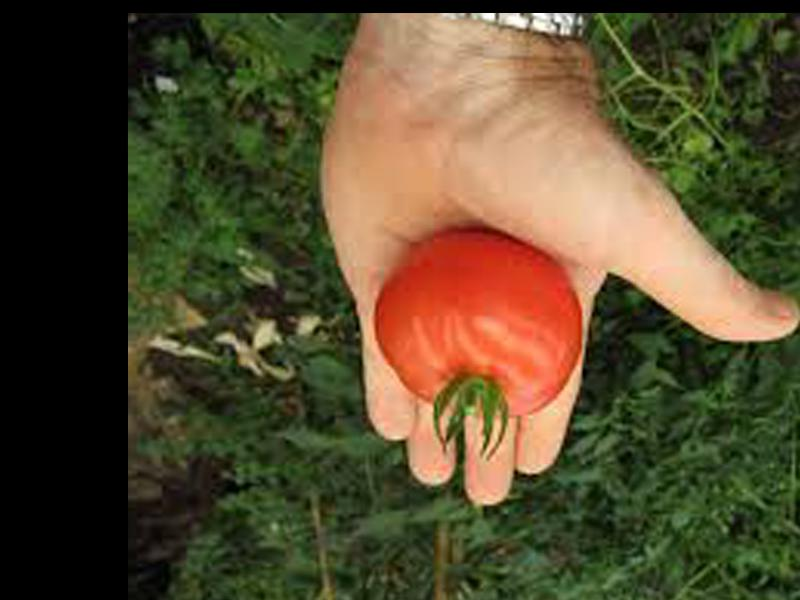Tomato: (371, 232, 584, 414)
